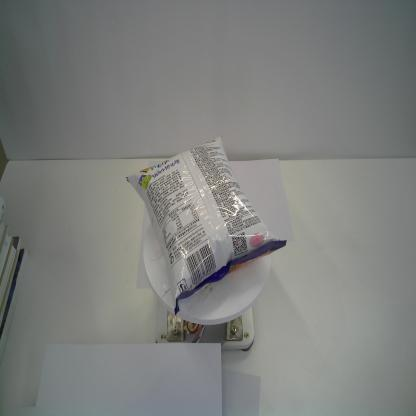Puffed Food: (122, 133, 288, 317)
